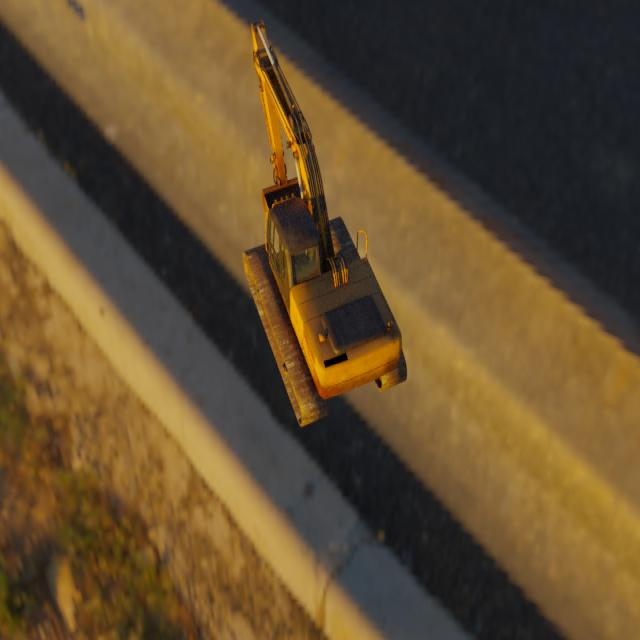excavator: (242, 19, 407, 426)
